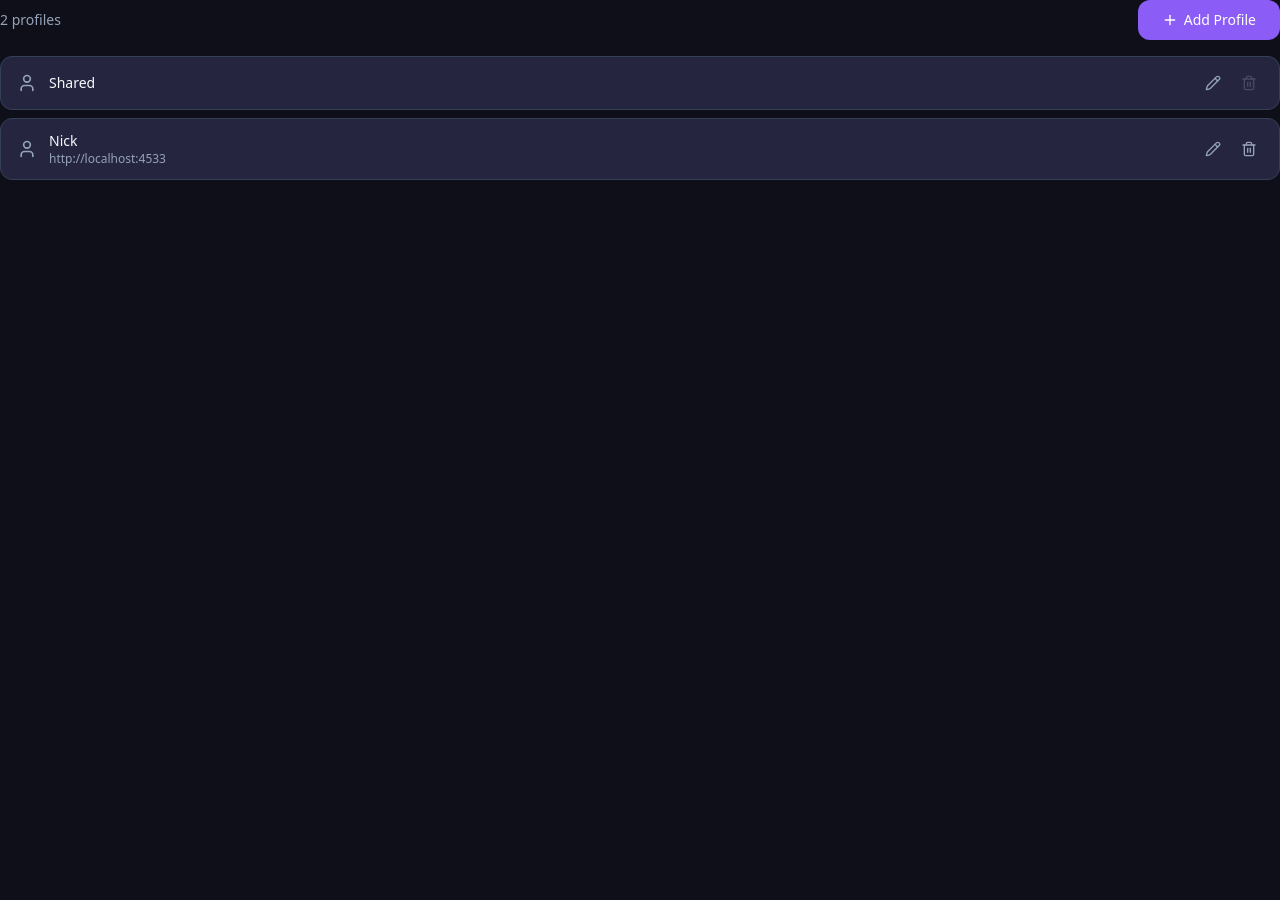
Test: ProfilesTab › cancels delete and closes dialog
Click the button named "delete nick": point(1249, 149) [1235,135,1263,163]
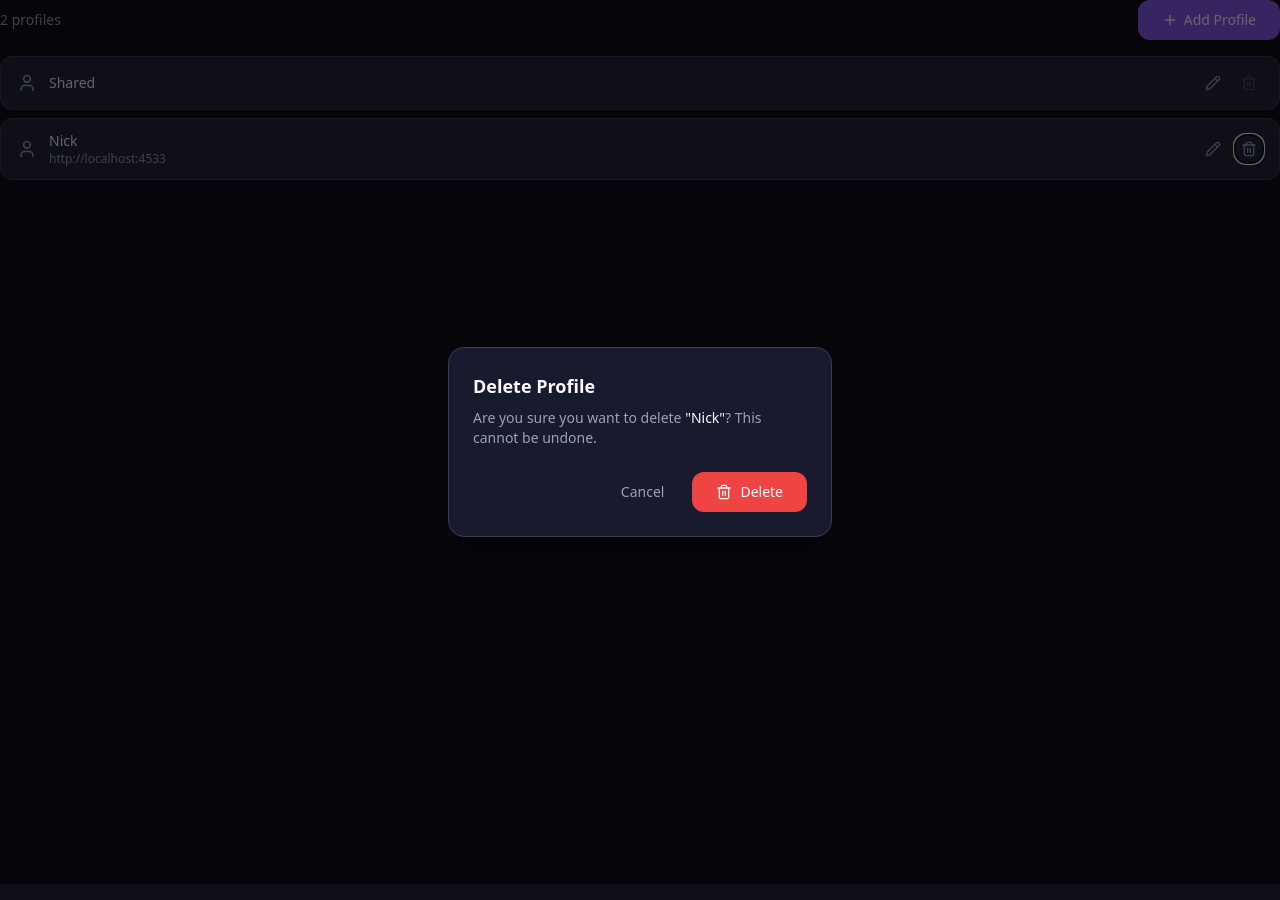
Click the button "Cancel": point(643, 492) [605,472,680,512]
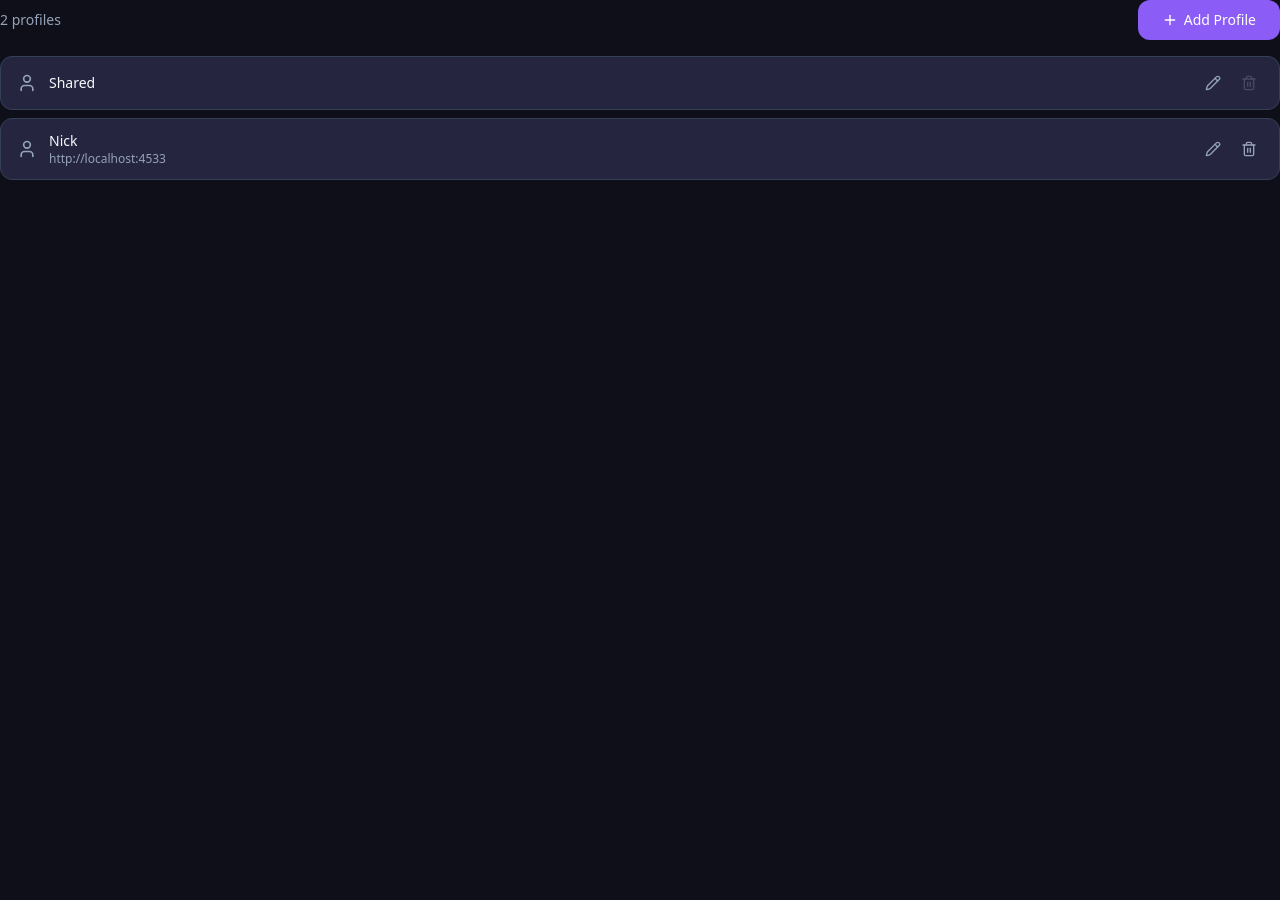
Expected: the heading "Delete Profile" is gone
